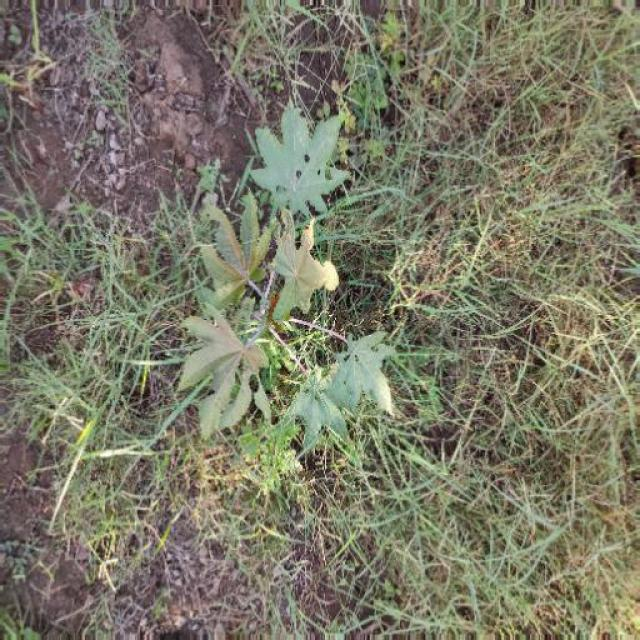weed: (164, 98, 418, 462)
